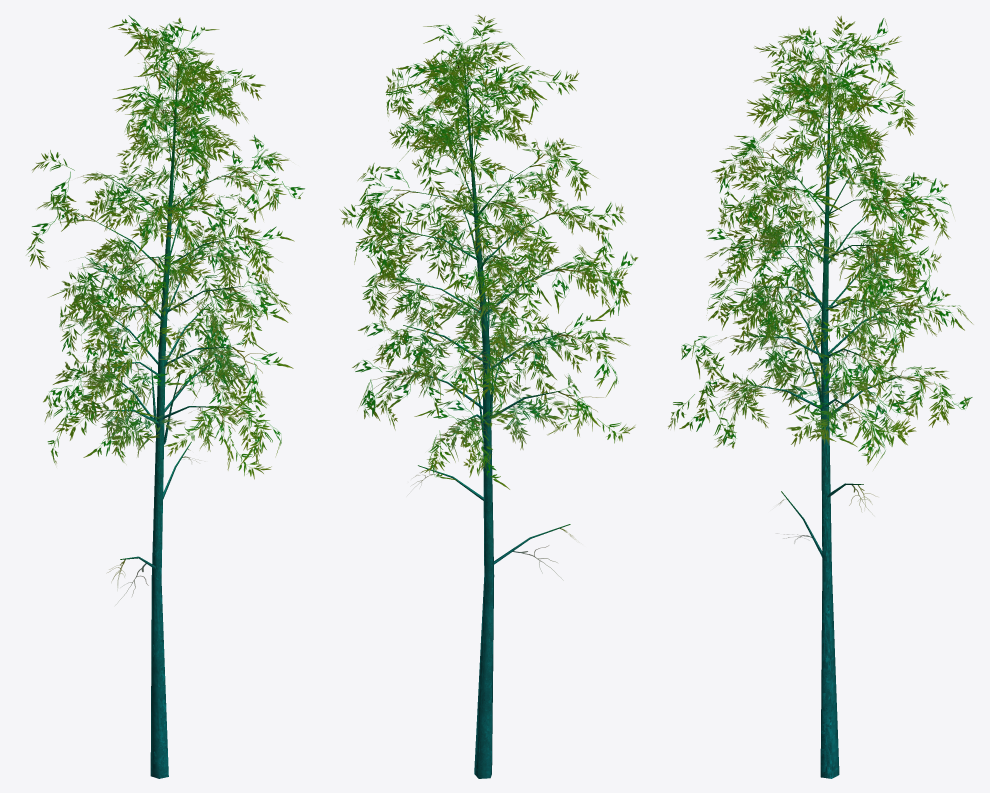
The model's file is Eucalyptus_A.glb.
3 views of the same model, side by side, from view 1: azimuth 30°, elevation 25°; view 2: azimuth 150°, elevation 25°; view 3: azimuth 270°, elevation 25° (orthographic).
Visible parts, largest first — view 1: EucalyptusA_LOD0; view 2: EucalyptusA_LOD0; view 3: EucalyptusA_LOD0.
Boxes of the visible parts, left/top/right/bottom form: EucalyptusA_LOD0: left=26, top=15, right=304, bottom=778; EucalyptusA_LOD0: left=339, top=14, right=638, bottom=778; EucalyptusA_LOD0: left=668, top=16, right=973, bottom=778.
Size of what is drawn, in the model's own units: 8.55 by 24.36 by 8.98.
2 materials, 2 textured.
